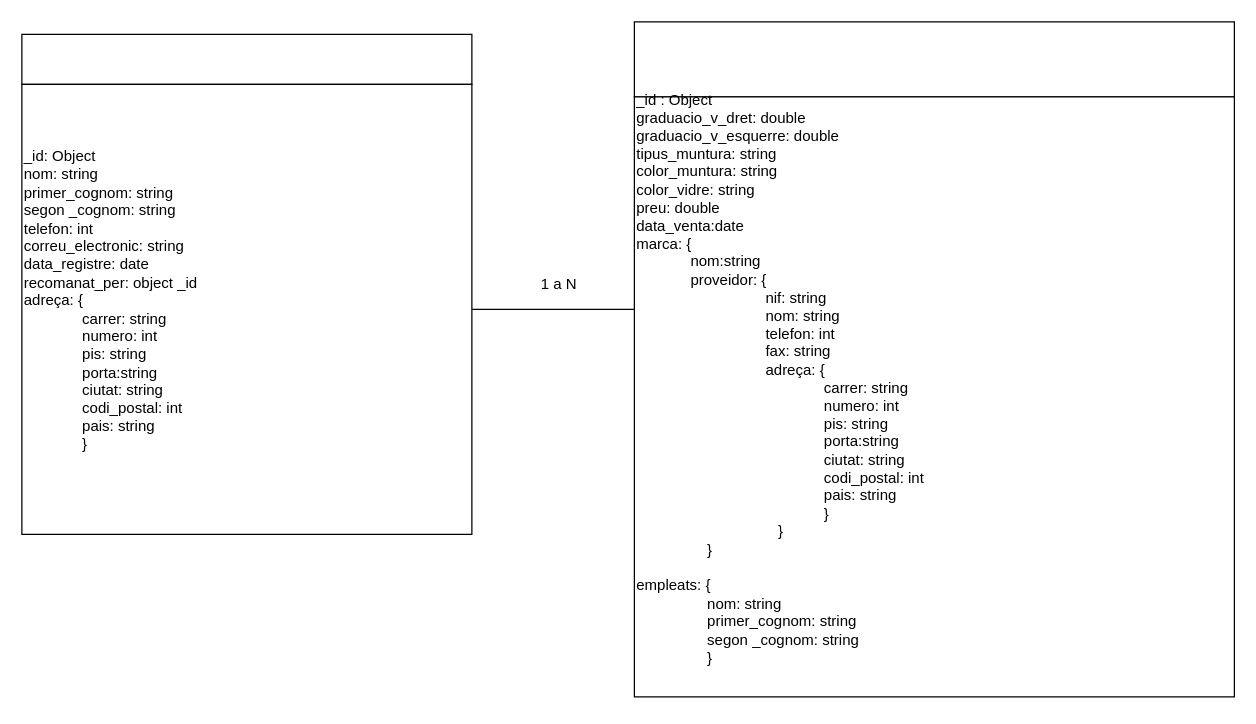
The diagram is 1256 pixels wide and 724 high, and some of its shapes have lost their labels. Each missing label, with the centre of its shape:
Clients: the point at 246,58
Ulleres: the point at 933,59
